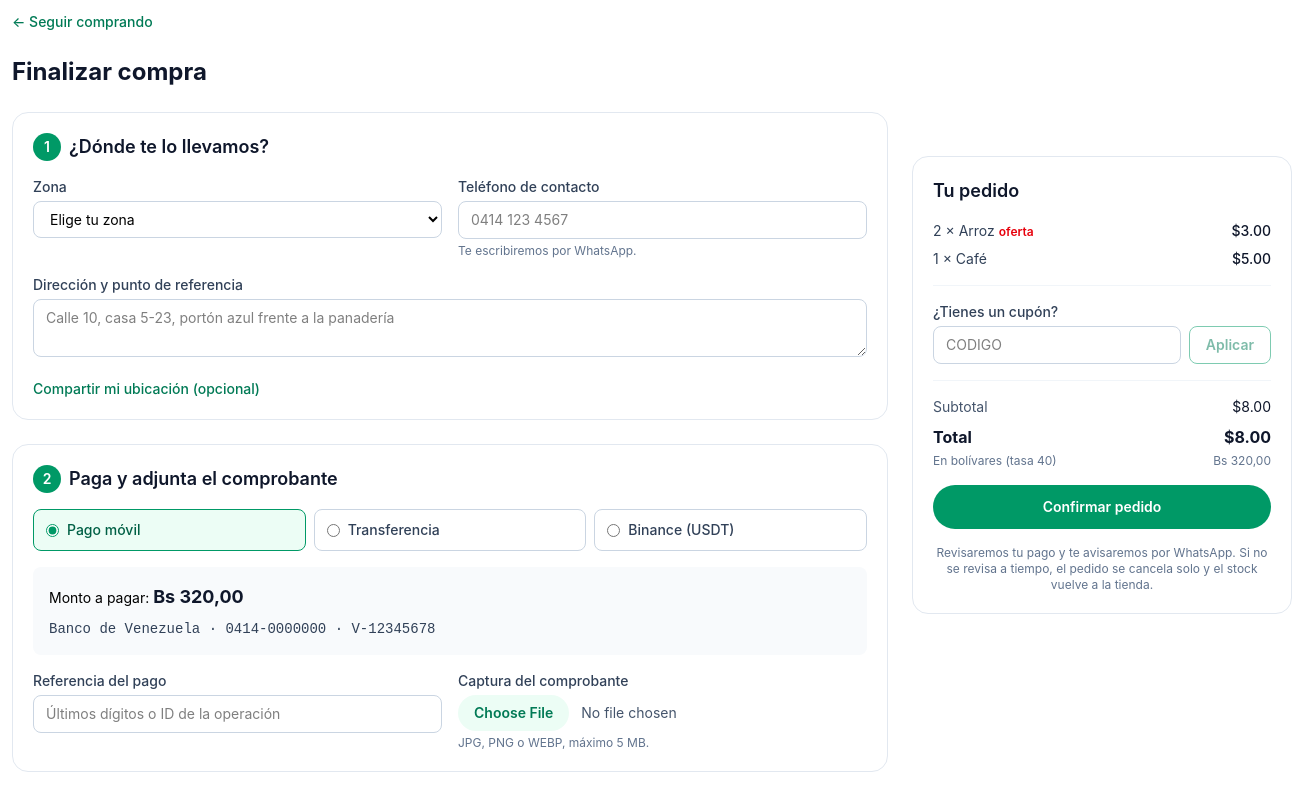
Test: Checkout: resumen y cupón › un cupón inválido muestra el motivo de la API y no cambia el total
Expected: the text "2 × Arroz" is shown, [933,221,1034,241]
Step 1. Type "VIEJO" into the field labelled "¿Tienes un cupón?" → (1057, 345), box [933,326,1181,364]
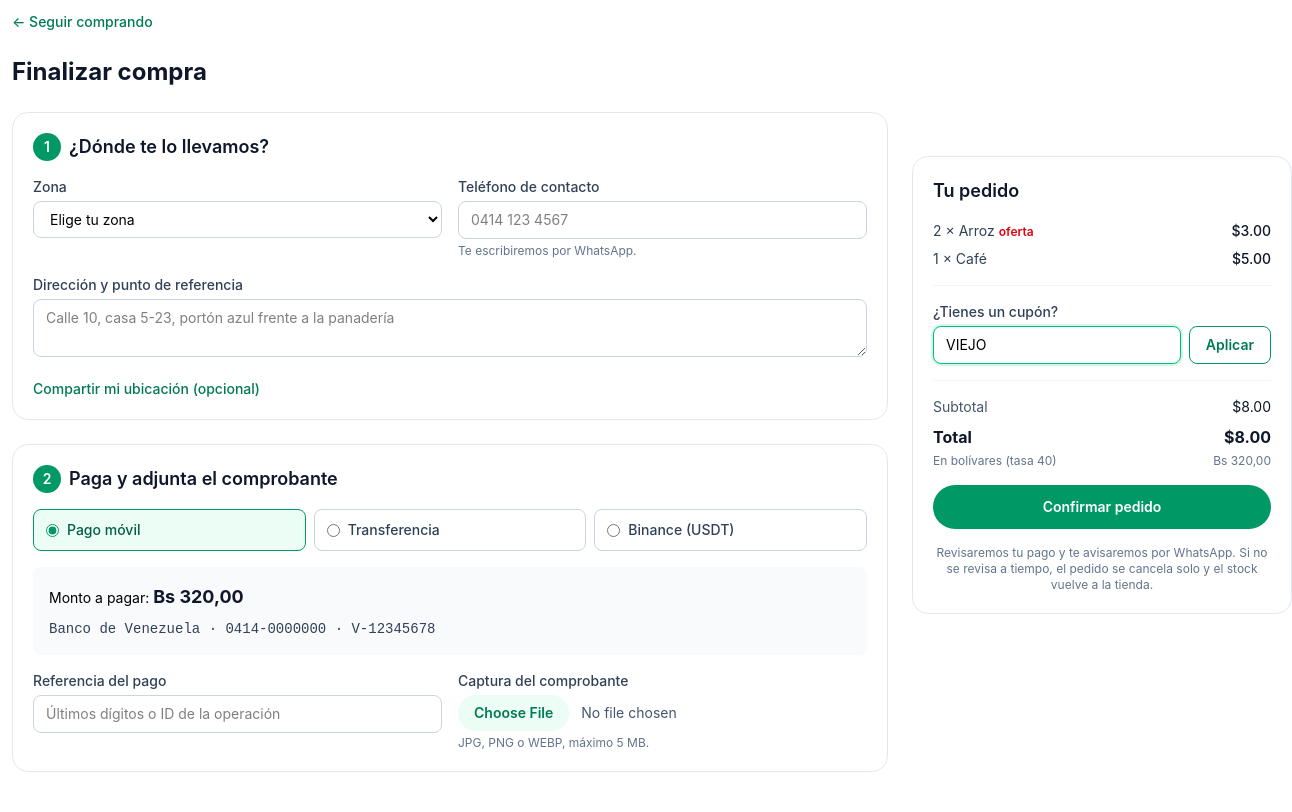
Step 2. Click the button "Aplicar" → (1230, 345), box [1189,326,1271,364]
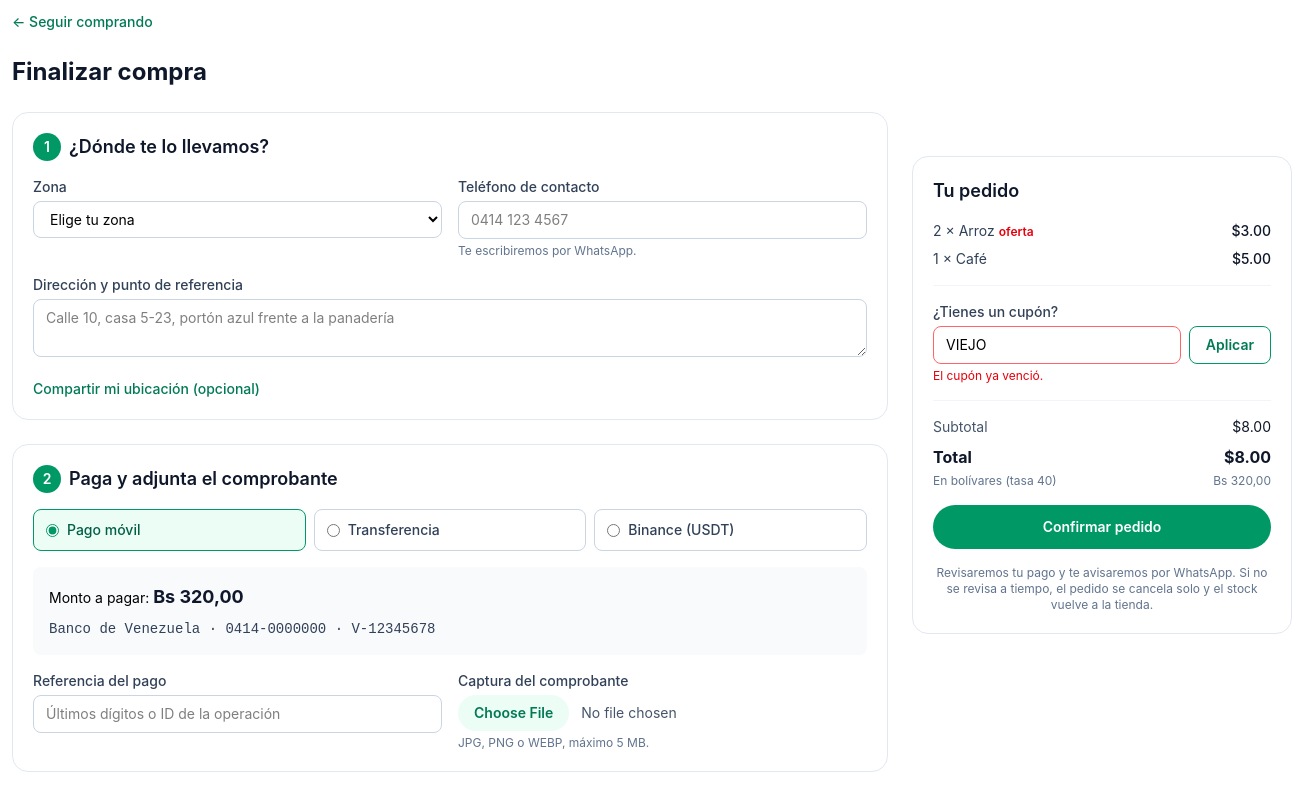
Expected: the text "El cupón ya venció." is shown, [933,368,1043,383]
